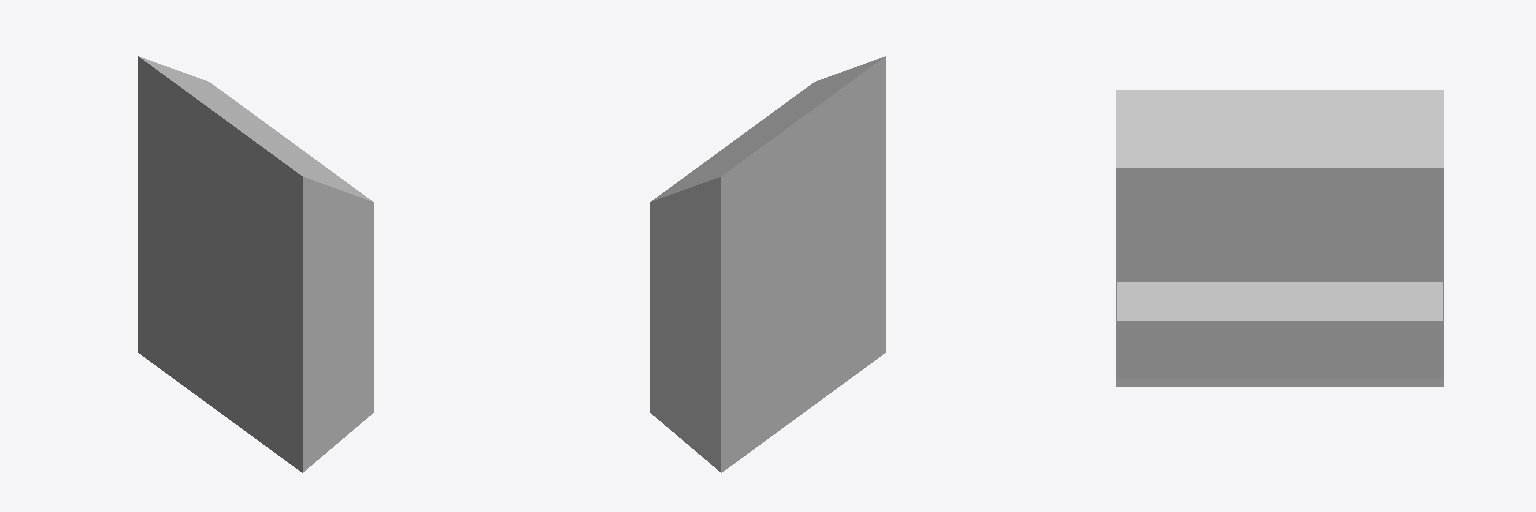
The model's file is kitkat_type4.obj.
The picture shows the model from 3 angles: view 1: azimuth 30°, elevation 25°; view 2: azimuth 150°, elevation 25°; view 3: azimuth 270°, elevation 25°; orthographic projection.
Visible parts, largest first — view 1: kitkat_emissive; view 2: kitkat_emissive; view 3: kitkat_emissive.
Part boxes in pixels (left/top/right/bottom): kitkat_emissive: left=138, top=56, right=373, bottom=472; kitkat_emissive: left=650, top=56, right=885, bottom=472; kitkat_emissive: left=1116, top=90, right=1443, bottom=386.
Bounding box in the file's own units: 0.5 × 1.99 × 2.